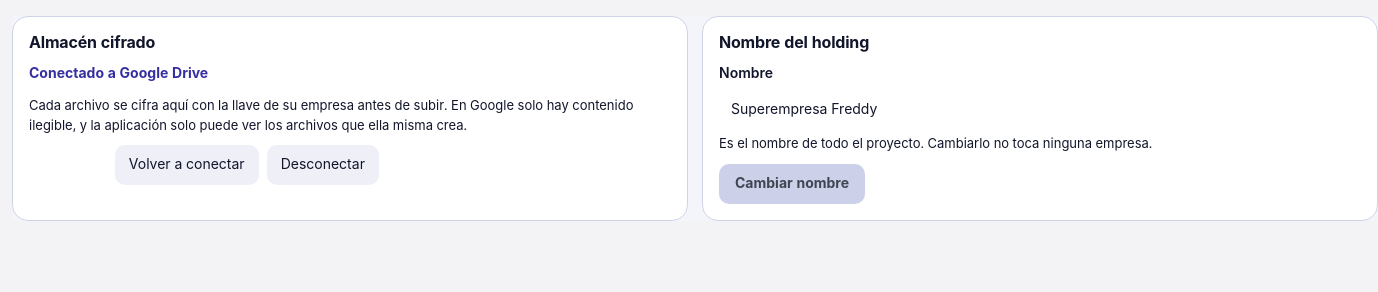
panel del almacén › desconectar pide confirmación y avisa de que las llaves se conservan
Expected: the text "Conectado a Google Drive" is shown, [29,64,208,81]
Click the button "Desconectar".
click(323, 165)  # box [267,145,379,185]
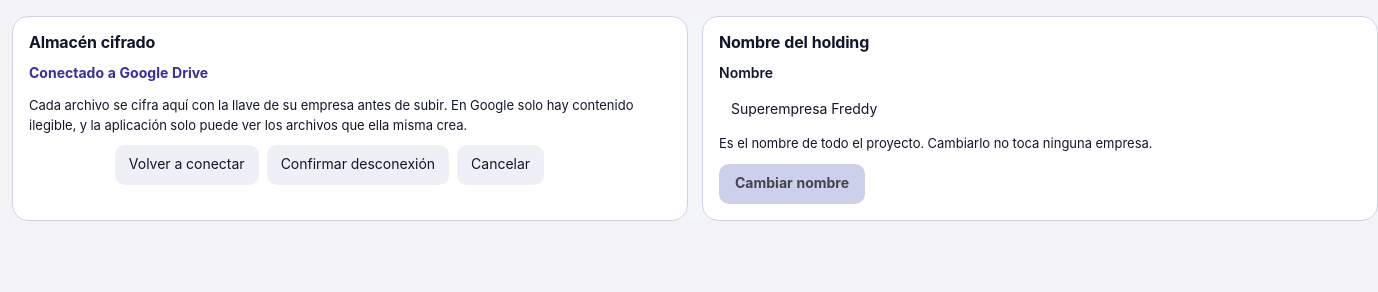
Click the button "Confirmar desconexión".
click(358, 165)  # box [267,145,449,185]
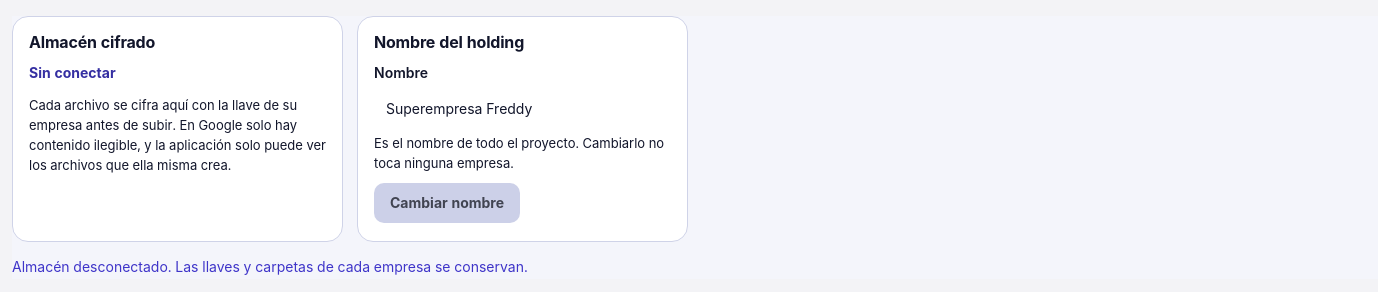
Now the text "Almacén desconectado. Las llaves y carpetas de cada empresa se conservan." is shown, box [12,258,528,275]
Now the text "Sin conectar" is shown, box [29,64,116,81]
